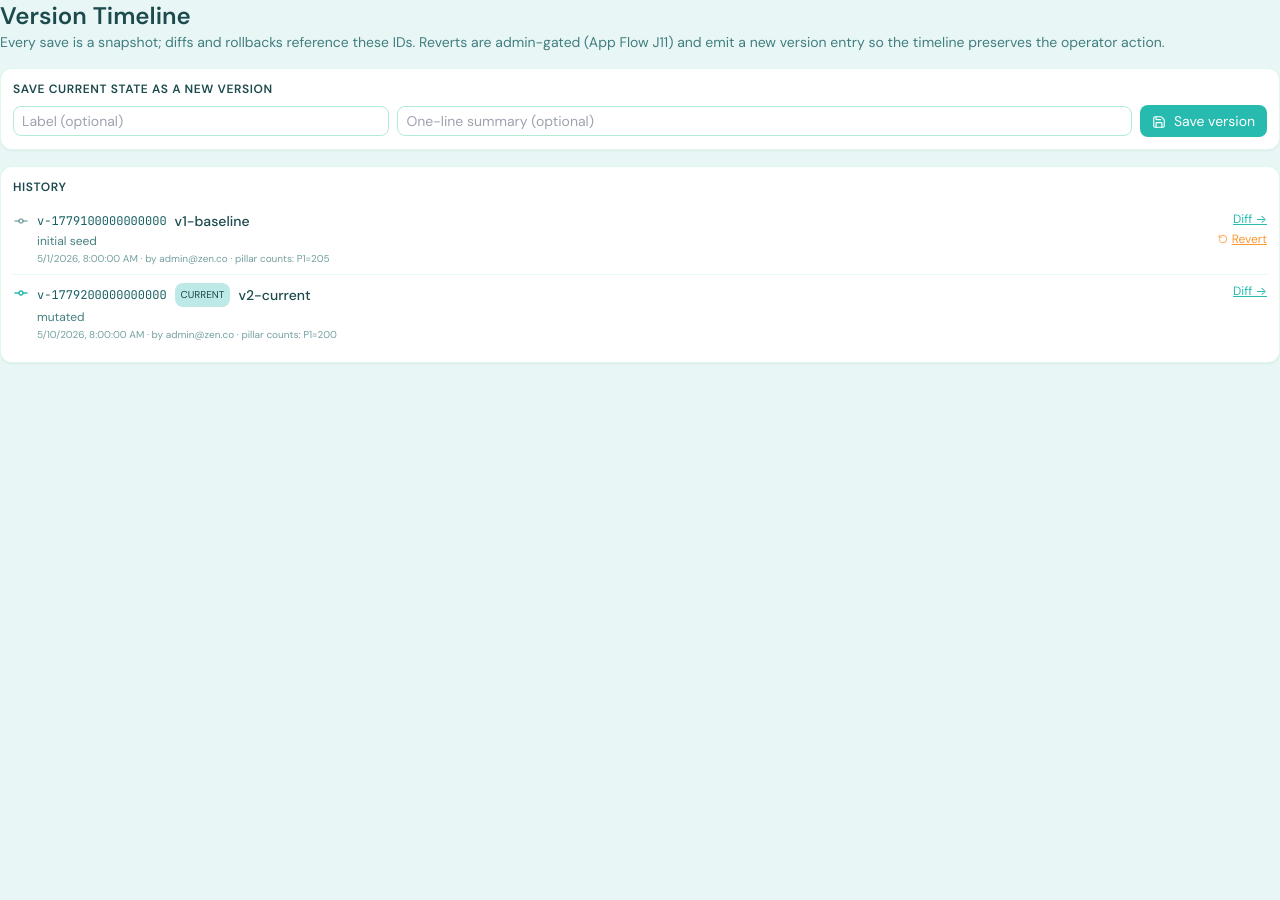
Test: VersionTimeline + revert › commit is disabled until a reason is entered
Expected: the text "v1-baseline" is shown, x1=175 y1=211 x2=250 y2=231
Click the button with aria-label "revert to v-1779100000000000": (1242, 239) x1=1218 y1=231 x2=1267 y2=247
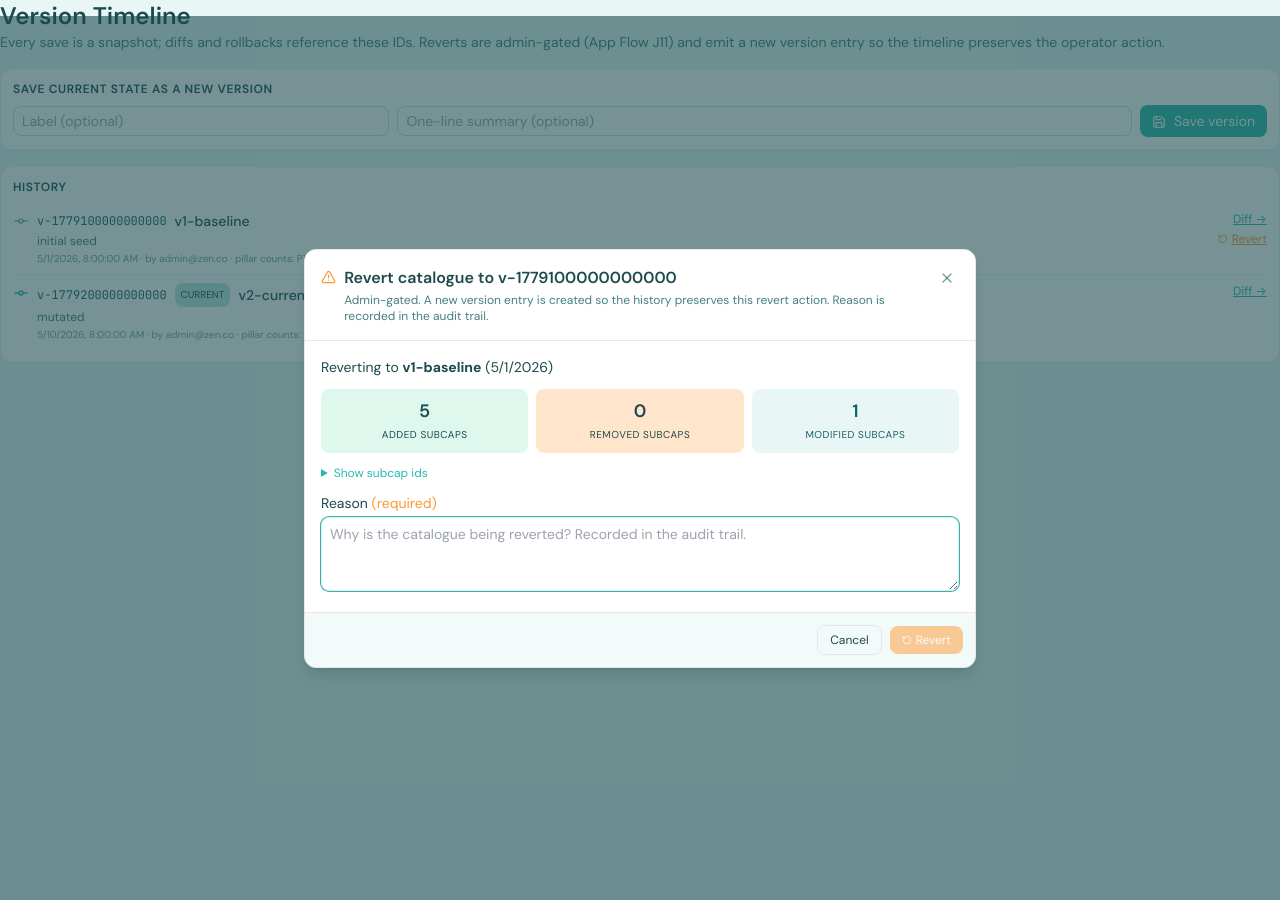
Expected: the heading "Revert catalogue to v-1779100000000000" is shown, x1=344 y1=266 x2=677 y2=288
Expected: the button "Revert" is disabled, x1=890 y1=626 x2=963 y2=654
Replace the text in the text box with placeholder "Why is the catalogue being reverted" with "regression in prod": (640, 554) x1=321 y1=516 x2=959 y2=590
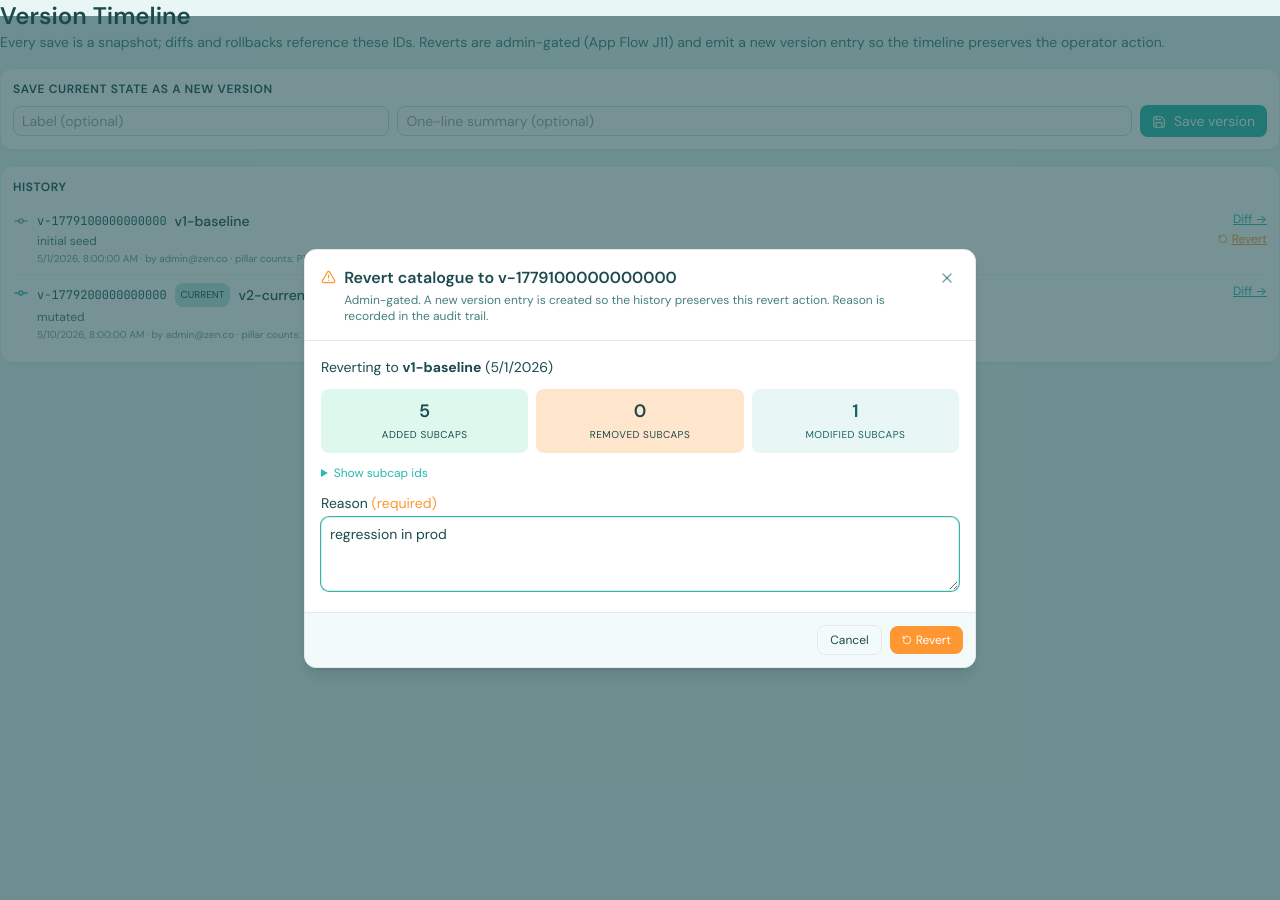
Expected: the button "Revert" is enabled, x1=890 y1=626 x2=963 y2=654
